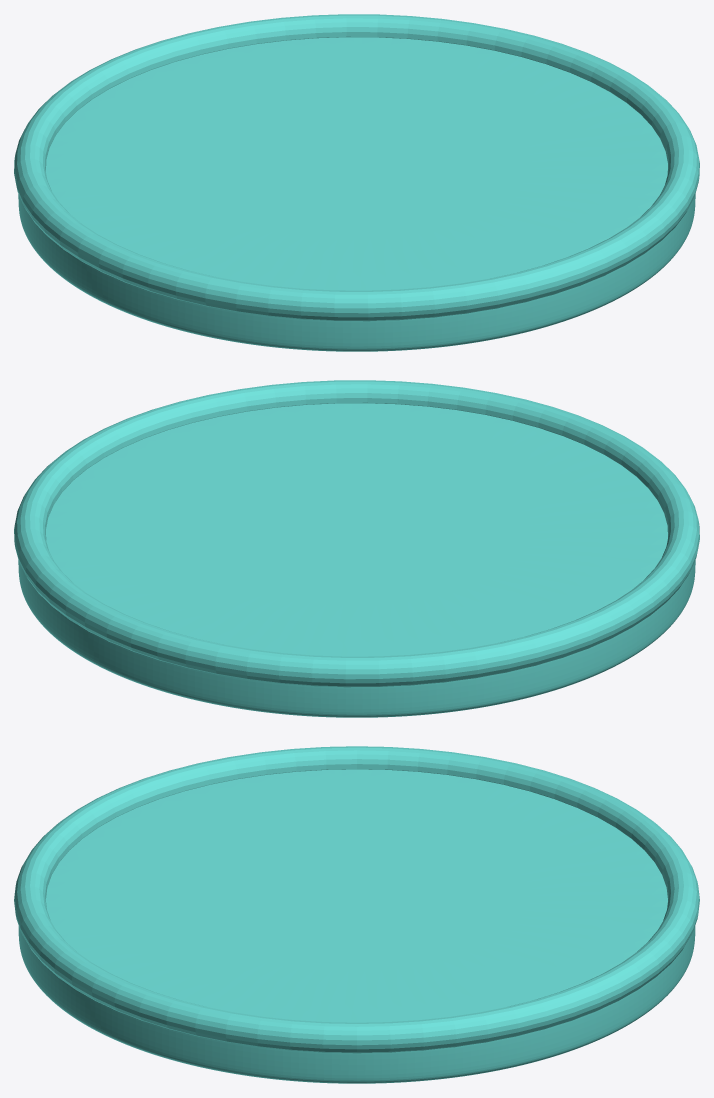
Rendered from Toy_SpawnPad_Teal_Hi.fbx.
3 renders of one model, top to bottom at view 1: azimuth 30°, elevation 25°; view 2: azimuth 150°, elevation 25°; view 3: azimuth 270°, elevation 25°, orthographic.
Visible parts, largest first — view 1: Cylinder, Torus; view 2: Cylinder, Torus; view 3: Cylinder, Torus.
Boxes of the visible parts, box(x1,y1,x2,y2) form: Cylinder: box(18, 37, 695, 351); Torus: box(14, 14, 699, 321); Cylinder: box(18, 403, 695, 717); Torus: box(14, 380, 699, 687); Cylinder: box(18, 769, 695, 1083); Torus: box(14, 746, 699, 1053).
Size of the model in its own units: 1.72 by 0.16 by 1.72.
